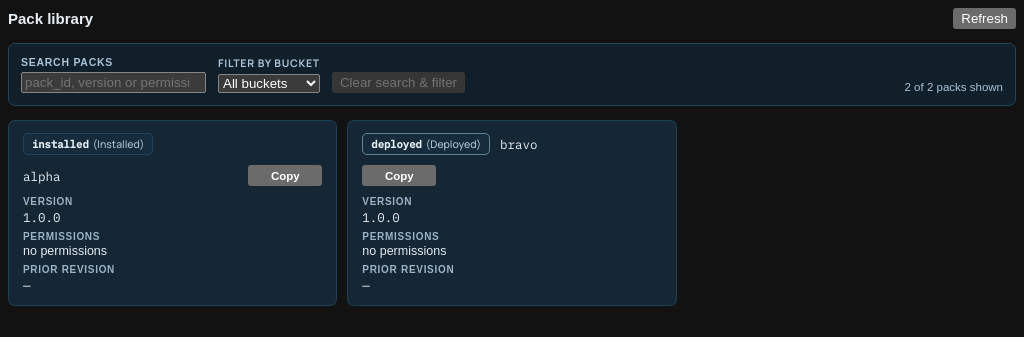
Test: PackLibrary refresh keeps the selected bucket filter truthful › keeps the prior inventory, selected filter option and surfaces the error when Refresh fails
Expected: the list with test id "pack-library-list" is shown, [8,120,677,306]
Select "installed" in the dropdown with test id "pack-library-bucket-select" at (269, 84), box [218,74,320,93]
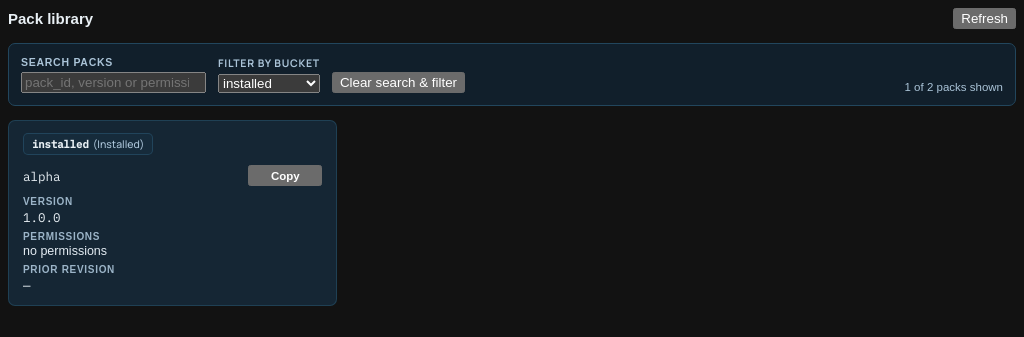
Click the button with test id "pack-library-refresh".
click(985, 18)  # box [953,8,1016,29]
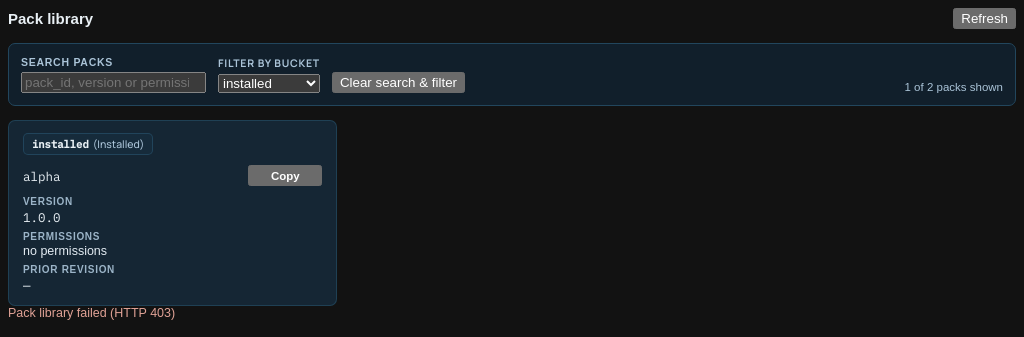
Expected: the list item with test id "pack-library-row-alpha" is shown, [8,120,337,306]
Now the text with test id "pack-library-count" reads "1 of 2 packs shown", box [904,81,1003,93]
Now the message with test id "pack-library-error" shows "403", box [8,306,175,320]
